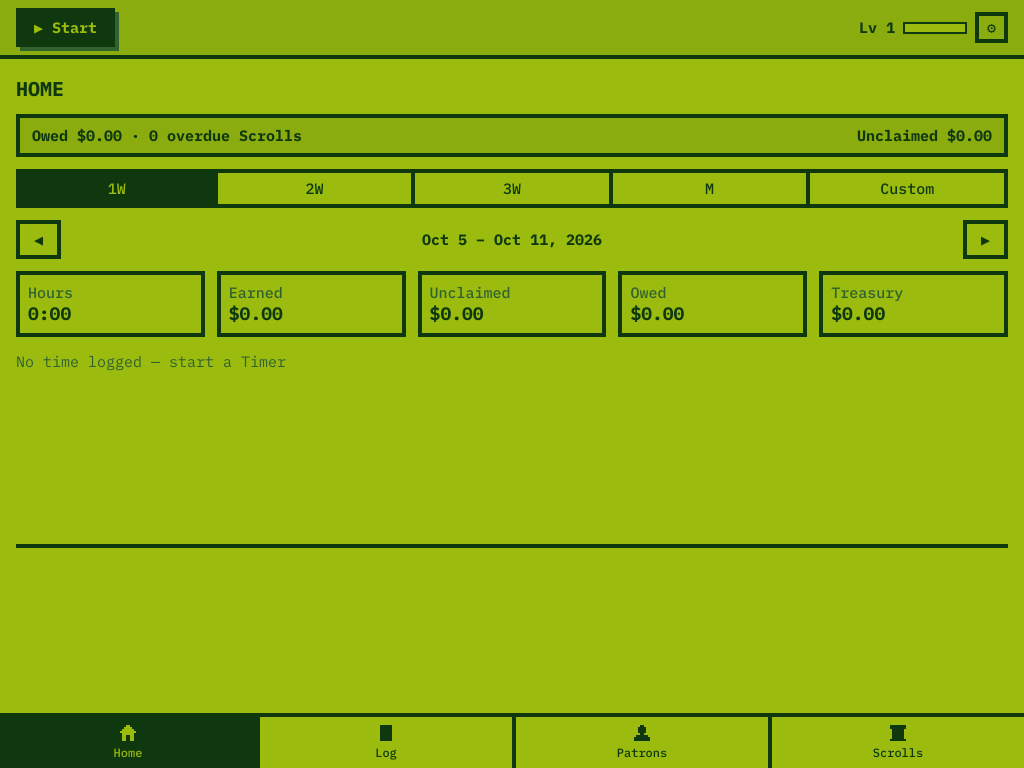
it: Retired Patrons › deletes a Patron after confirming what goes with it
Click the tab "Patrons" at point(640, 742), box top-left (512, 717), bottom-right (768, 767)
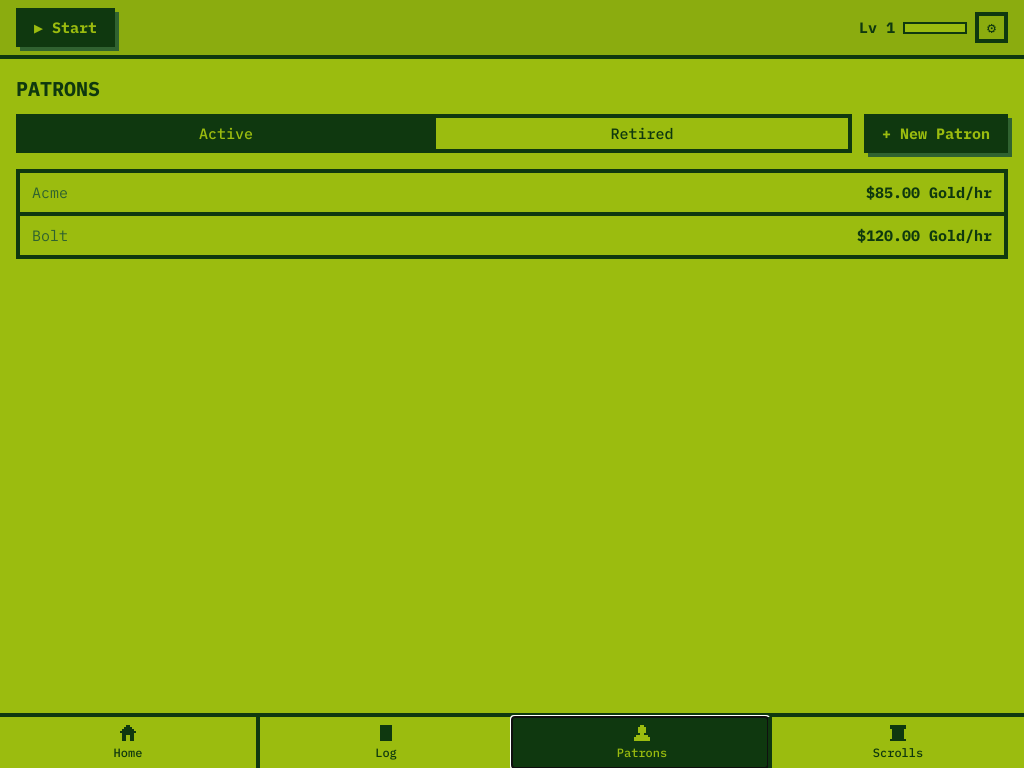
Click the button "Acme $85.00 Gold/hr" at point(50, 192), box top-left (20, 173), bottom-right (1004, 212)
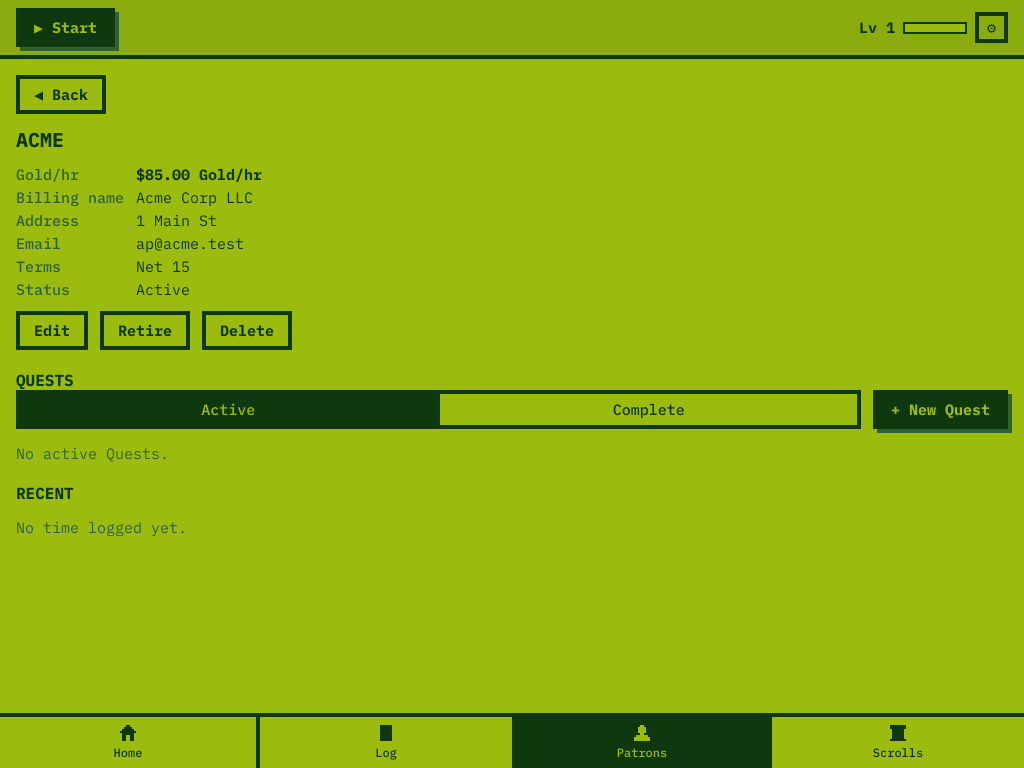
Expected: the heading "Acme" is shown, top-left (16, 126), bottom-right (64, 153)
Click the button "Delete" at point(247, 330), box top-left (202, 311), bottom-right (292, 350)
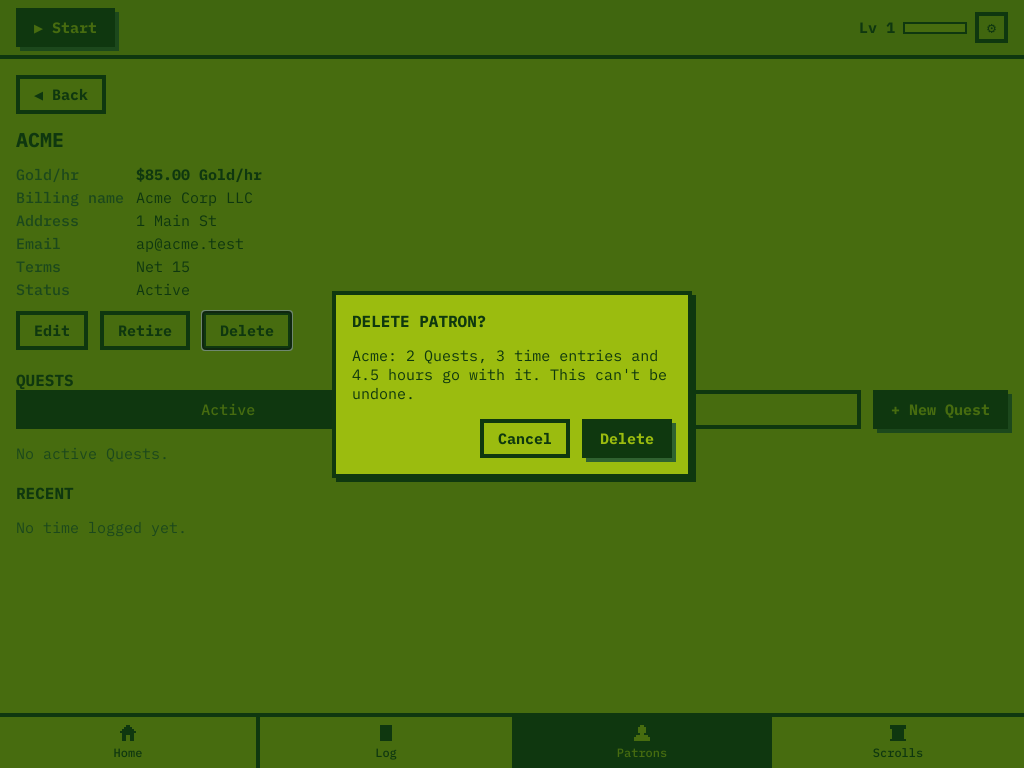
Expected: the dialog "Delete Patron?" shows "2 Quests, 3 time entries and 4.5 hours", top-left (332, 290), bottom-right (692, 478)
Click the button "Delete" at point(627, 438), box top-left (582, 418), bottom-right (672, 458)
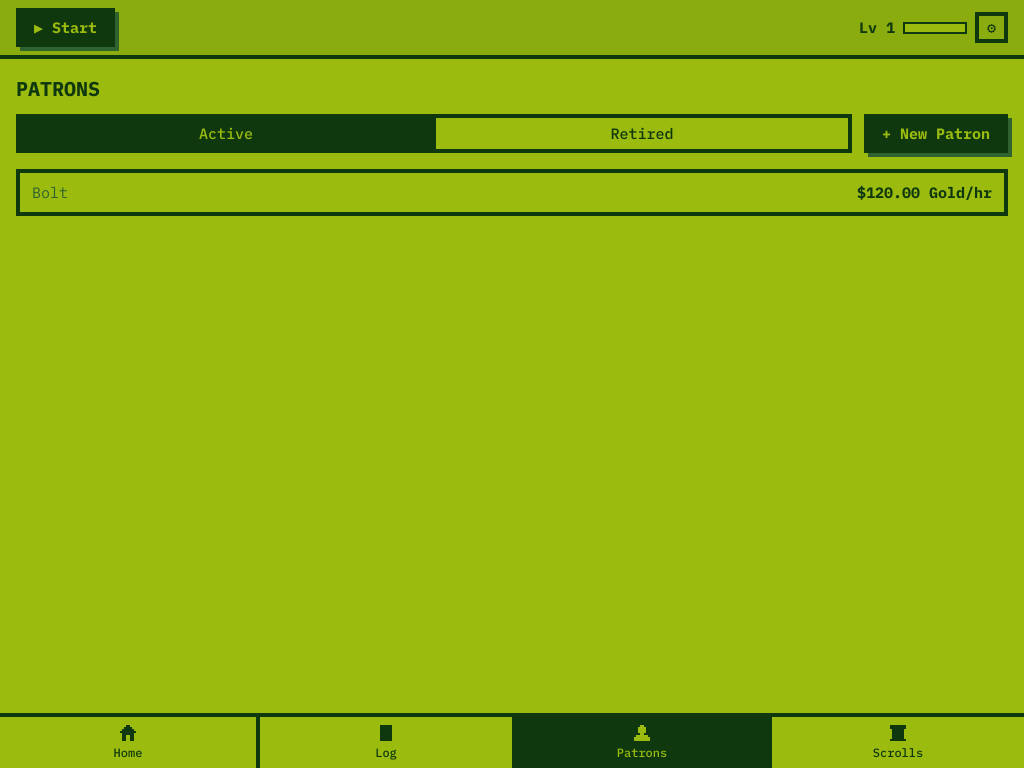
Expected: the heading "Patrons" is shown, top-left (16, 75), bottom-right (100, 102)
Expected: the heading "Acme" is gone
